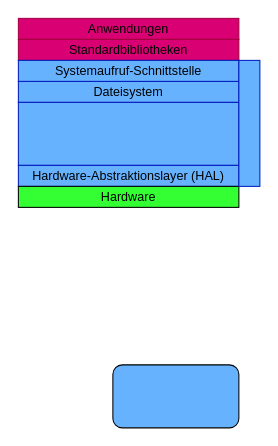
This 278x446 diagram has some shape labels left out. The box of each missing label's shape, as (x1, y1, x2, y2) in pixels:
Basisfunktionen (CPU- /Prozess- / Hauptspeicher- Cache- Verwaltung, IPC: (17, 101, 239, 165)
Betriebssystem: (238, 59, 260, 186)
